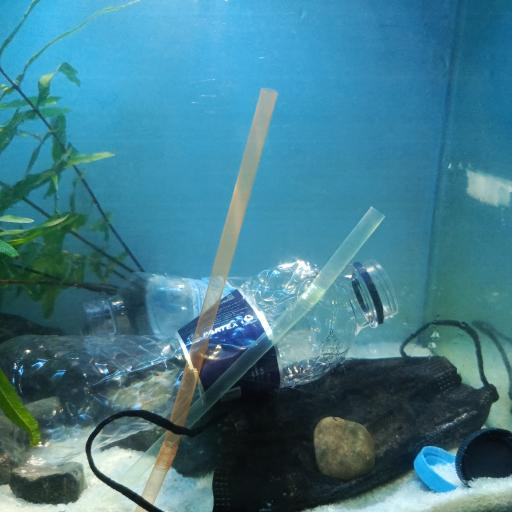bottle_cap: (457, 428, 512, 487), (416, 443, 462, 492)
mask: (87, 317, 512, 512)
plastic_bottle: (0, 258, 401, 458), (74, 272, 295, 341)
plastic_straw: (118, 206, 385, 512), (128, 86, 272, 512)
